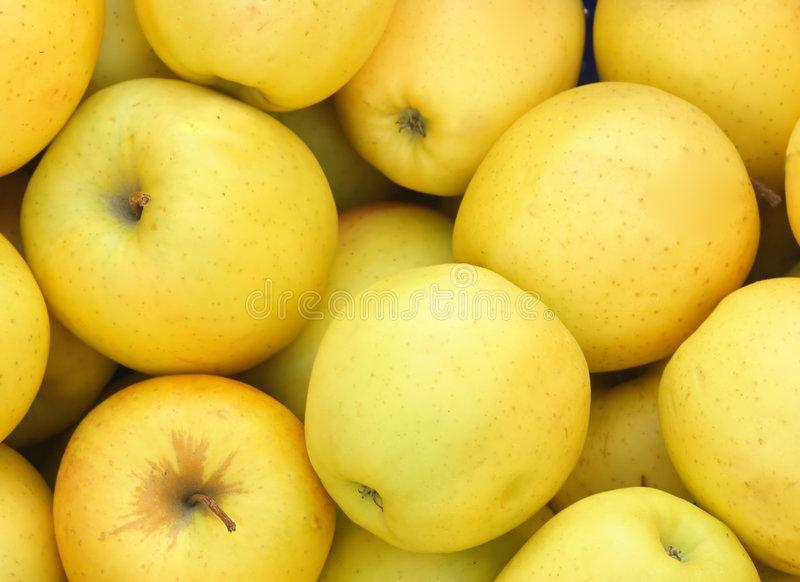apple: (21, 77, 340, 384), (451, 79, 760, 374), (306, 263, 591, 559), (48, 379, 337, 578), (335, 1, 584, 195)
